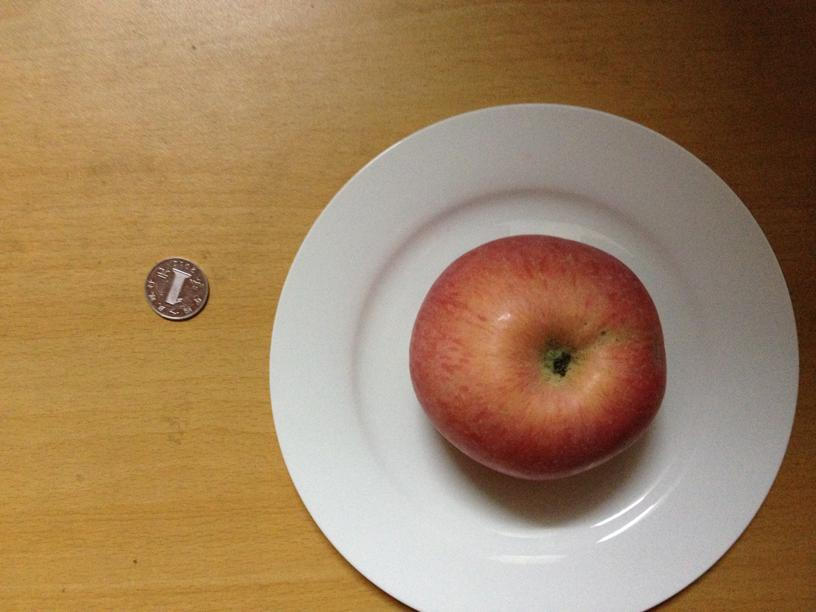apple: (406, 235, 666, 482)
coin: (144, 257, 210, 320)
